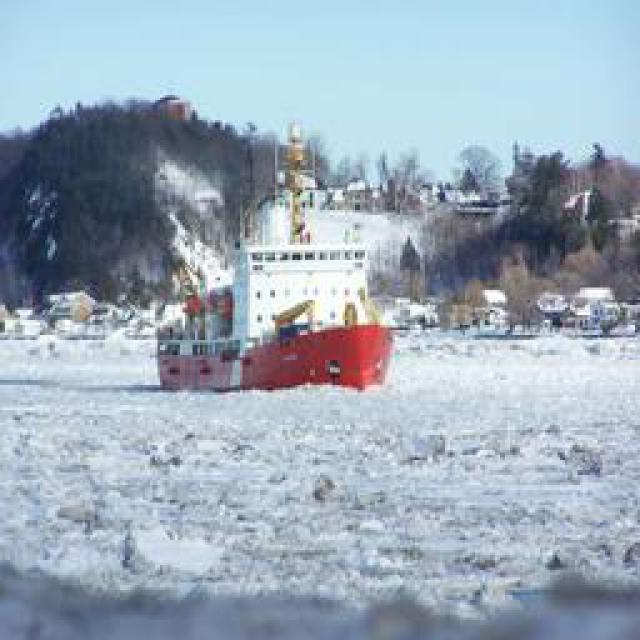Ship: (159, 212, 399, 400)
